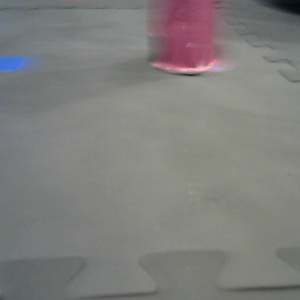Right: (144, 2, 217, 74)
